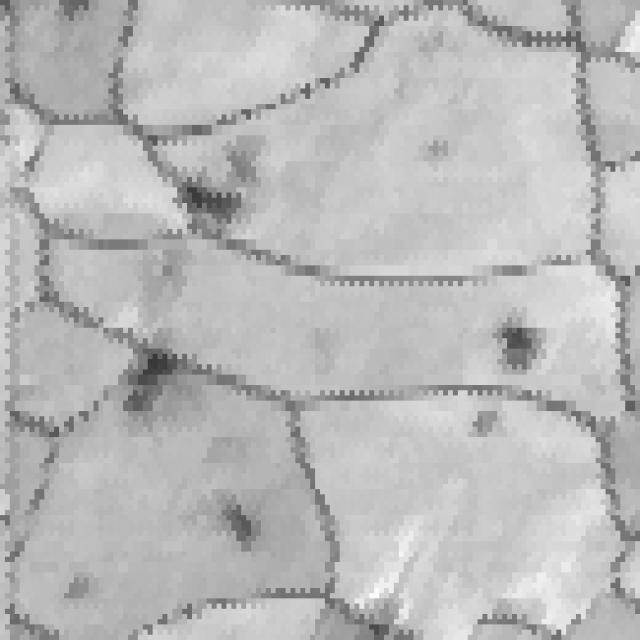good_void: (119, 347, 197, 412), (172, 180, 246, 232), (492, 323, 546, 375), (211, 502, 269, 548), (461, 405, 504, 442), (63, 567, 93, 604)
